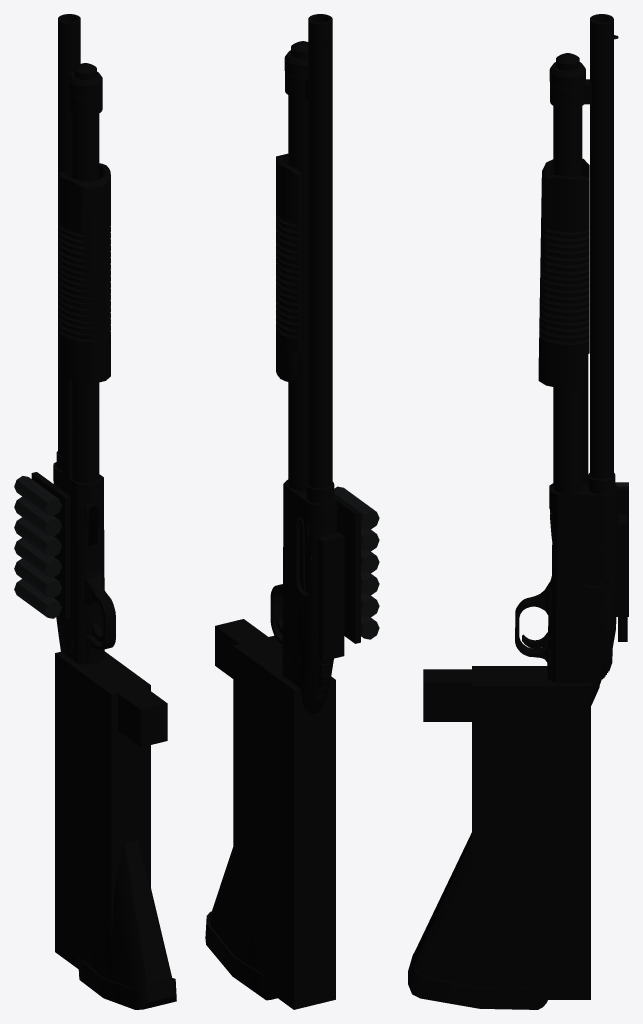
Rendered from M590__Mount_ScopeBase__Sidesaddle_Shotgun__Stock_M590_PistolGrip.fbx.
3 renders of one model, left to right at view 1: azimuth 30°, elevation 25°; view 2: azimuth 210°, elevation 25°; view 3: azimuth 270°, elevation 25°, orthographic. The views are drawn at different scales.
Visible parts, largest first — view 1: asset_M590.001; view 2: asset_M590.001; view 3: asset_M590.001.
Part boxes in pixels (bbox=[...]): asset_M590.001: bbox=[14, 14, 176, 1009]; asset_M590.001: bbox=[205, 14, 379, 1009]; asset_M590.001: bbox=[408, 14, 628, 1009].
Bounding box in the file's own units: 0.0447 × 0.6 × 0.1224.
